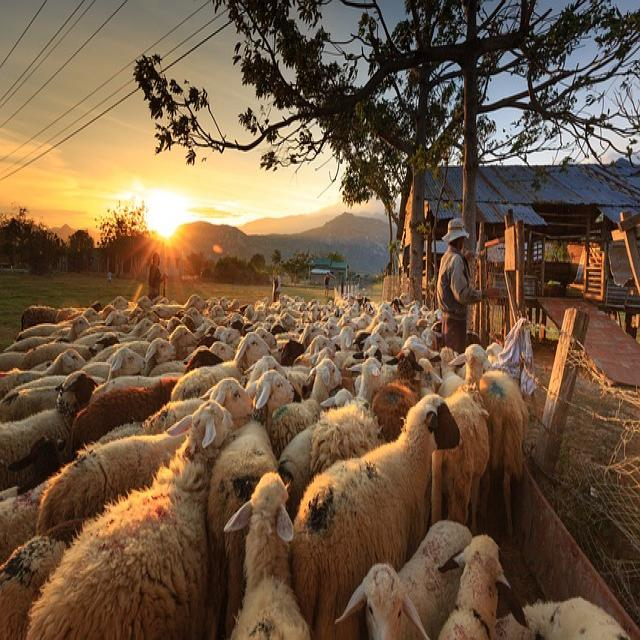goat: (28, 400, 231, 640), (290, 396, 459, 638), (339, 522, 472, 640), (36, 434, 185, 535), (225, 473, 309, 639), (0, 372, 94, 487), (431, 387, 489, 531), (479, 370, 528, 534), (71, 377, 178, 452), (335, 563, 429, 640), (0, 537, 66, 639), (171, 332, 270, 400), (311, 404, 384, 474), (231, 577, 310, 640), (279, 424, 314, 519), (252, 370, 294, 429), (204, 379, 252, 429), (352, 357, 384, 403), (310, 359, 341, 403), (109, 347, 145, 380)
